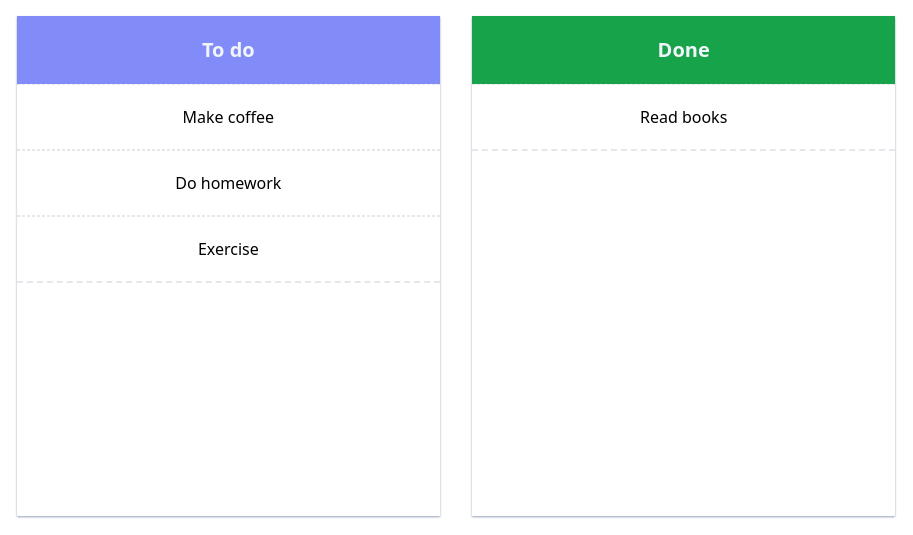
Test: TODO › should move item to done after click
get button which has 'Make coffee' text on it
Click the button "Make coffee" at x=228, y=117, box [17,84,440,150]
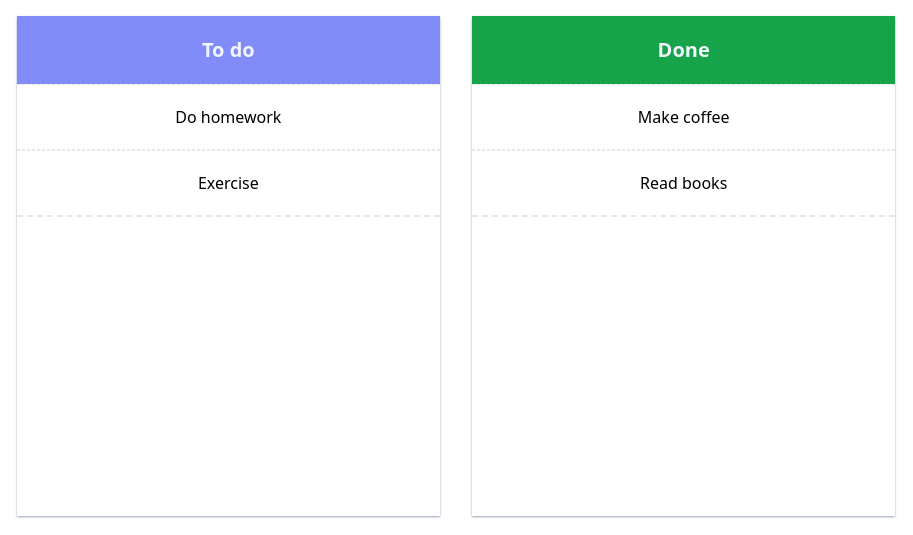
expect the element with test id "done" shows "Make coffee": met, box [472,84,895,150]
